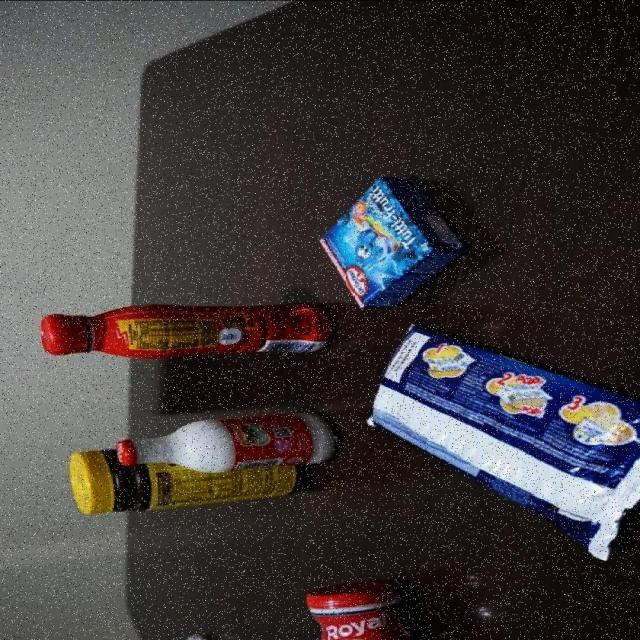ChocolateMilk: (37, 300, 335, 358)
ChocolatePowder: (68, 445, 320, 514)
CoconutMilk: (113, 410, 343, 474)
Gelatine: (318, 175, 472, 309)
Popcorn: (364, 322, 640, 561)
Yeast: (303, 578, 424, 640)
